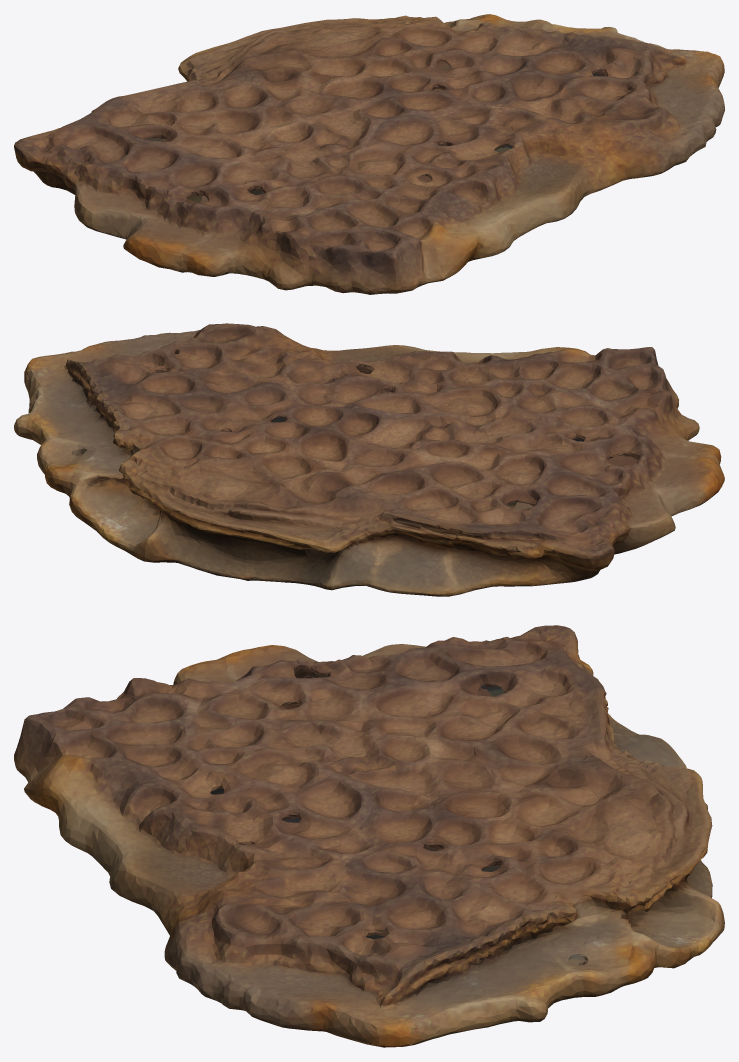
3 renders of one model, top to bottom at view 1: azimuth 30°, elevation 25°; view 2: azimuth 150°, elevation 25°; view 3: azimuth 270°, elevation 25°, orthographic. The views are drawn at different scales.
Parts seen in each view (by area): view 1: world; view 2: world; view 3: world.
Part boxes in pixels (box(x1,y1,x2,y2)): world: box(14, 14, 724, 294); world: box(14, 323, 724, 596); world: box(14, 625, 724, 1047).
Size of the model in its own units: 0.08 by 0.00797 by 0.062.
Materials: 1 (1 with a texture image).
